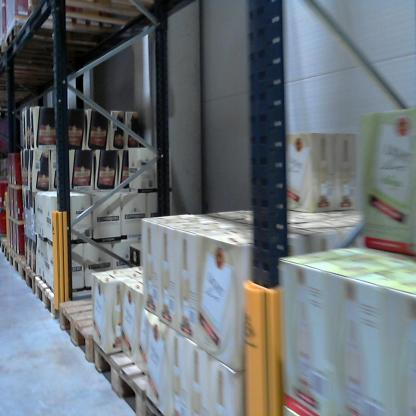pallet: (5, 18, 124, 65), (93, 333, 160, 416), (34, 271, 124, 326), (25, 0, 174, 33), (57, 293, 117, 365), (145, 387, 188, 414), (17, 254, 39, 295), (4, 243, 21, 276), (1, 239, 8, 257)
